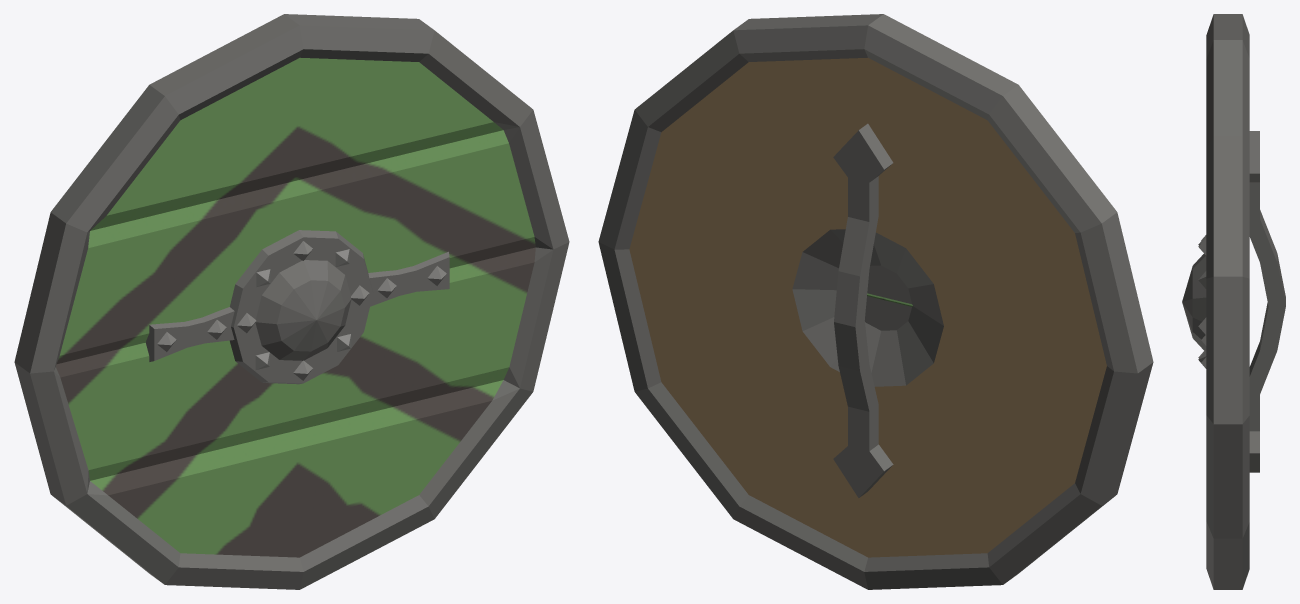
File: SM_pwe_slavic_shield_03j.fbx
3 renders of one model, left to right at view 1: azimuth 30°, elevation 25°; view 2: azimuth 150°, elevation 25°; view 3: azimuth 270°, elevation 25°, orthographic. The views are drawn at different scales.
Parts seen in each view (by area): view 1: SM_pwe_slavic_shield_03j; view 2: SM_pwe_slavic_shield_03j; view 3: SM_pwe_slavic_shield_03j.
Boxes of the visible parts, x1=… form: SM_pwe_slavic_shield_03j: x1=14, y1=14, x2=569, y2=589; SM_pwe_slavic_shield_03j: x1=598, y1=14, x2=1153, y2=589; SM_pwe_slavic_shield_03j: x1=1182, y1=14, x2=1285, y2=589.
Size of the model in its own units: 70.52 by 70.52 by 12.67.
